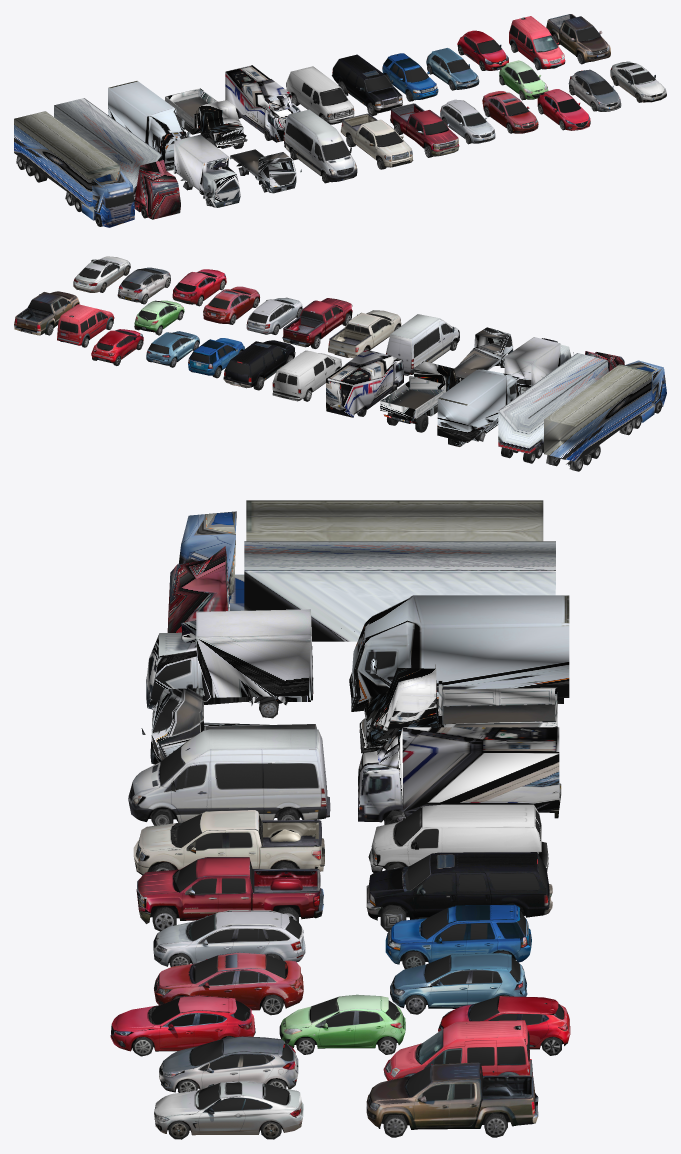
Rendered from vehicle_lot_display_lo.glb.
3 views of the same model, one above another, from view 1: azimuth 30°, elevation 25°; view 2: azimuth 150°, elevation 25°; view 3: azimuth 270°, elevation 25° (orthographic). The views are drawn at different scales.
Visible parts, largest first — view 1: object 15, object 14, object 17, object 12, object 18, object 5, object 6, object 7, object 2, object 8, object 19, object 16 (+7 smaller); view 2: object 15, object 14, object 17, object 18, object 12, object 5, object 6, object 7, object 2, object 19, object 8, object 16 (+7 smaller); view 3: object 15, object 17, object 14, object 12, object 18, object 6, object 2, object 19, object 7, object 5, object 9, object 1 (+7 smaller).
Boxes of the visible parts, x1,y1,x2,y2 form: object 15: [14, 80, 301, 227]; object 14: [165, 88, 357, 182]; object 17: [54, 98, 180, 219]; object 12: [173, 60, 548, 207]; object 18: [225, 65, 300, 142]; object 5: [286, 66, 354, 124]; object 6: [331, 54, 402, 113]; object 7: [340, 113, 413, 167]; object 2: [390, 103, 459, 156]; object 8: [509, 16, 565, 69]; object 19: [546, 14, 610, 62]; object 16: [95, 99, 495, 226]; object 15: [437, 327, 666, 470]; object 14: [380, 314, 460, 424]; object 17: [498, 351, 624, 453]; object 18: [326, 349, 403, 417]; object 12: [134, 300, 573, 441]; object 5: [272, 350, 341, 401]; object 6: [223, 340, 295, 388]; object 7: [328, 310, 401, 358]; object 2: [282, 298, 352, 347]; object 19: [14, 291, 79, 335]; object 8: [57, 304, 114, 345]; object 16: [246, 297, 662, 413]; object 15: [141, 500, 569, 764]; object 17: [167, 541, 555, 641]; object 14: [128, 664, 557, 822]; object 12: [146, 609, 405, 1048]; object 18: [358, 727, 561, 822]; object 6: [366, 852, 552, 920]; object 2: [136, 857, 323, 923]; object 19: [366, 1062, 538, 1129]; object 7: [133, 810, 324, 875]; object 5: [368, 804, 548, 872]; object 9: [385, 904, 531, 964]; object 1: [154, 1081, 303, 1135].
Bounding box in the file's own units: 24.86 × 2.09 × 8.84.
Materials: 25 (25 with a texture image).
